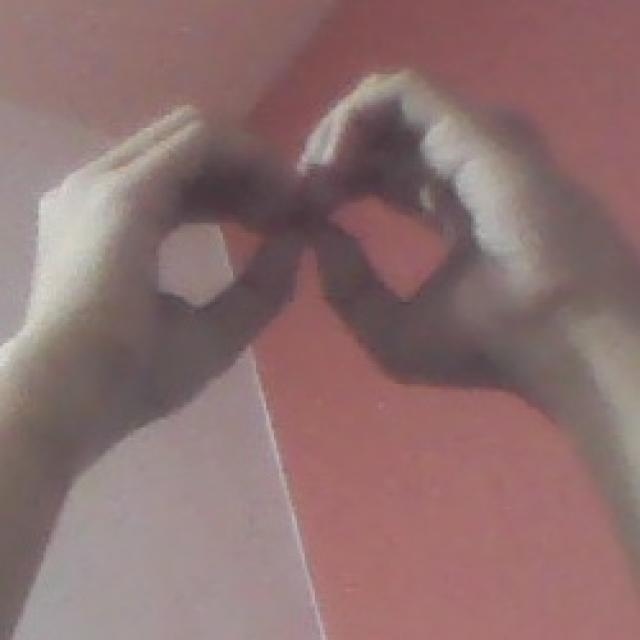Alphabet-B: (35, 67, 610, 397)
